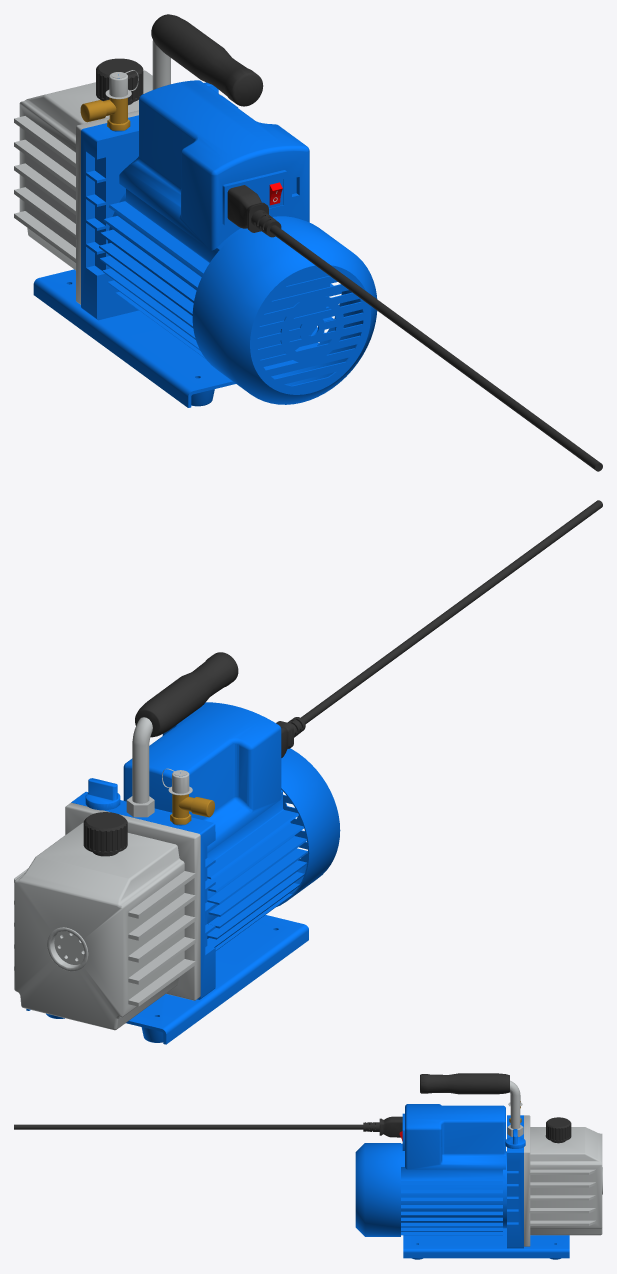
The model's file is Vacuum Pump.fbx.
3 views of the same model, one above another, from view 1: azimuth 30°, elevation 25°; view 2: azimuth 150°, elevation 25°; view 3: azimuth 270°, elevation 25° (orthographic). The views are drawn at different scales.
Parts seen in each view (by area): view 1: Vacuum Pump_A; view 2: Vacuum Pump_A; view 3: Vacuum Pump_A.
Part boxes in pixels (x1,y1,x2,y2): Vacuum Pump_A: (14,14,602,471); Vacuum Pump_A: (14,500,602,1044); Vacuum Pump_A: (14,1073,602,1259).
Bounding box in the file's own units: 16.87 × 32.92 × 104.
Materials: 1 (1 with a texture image).
